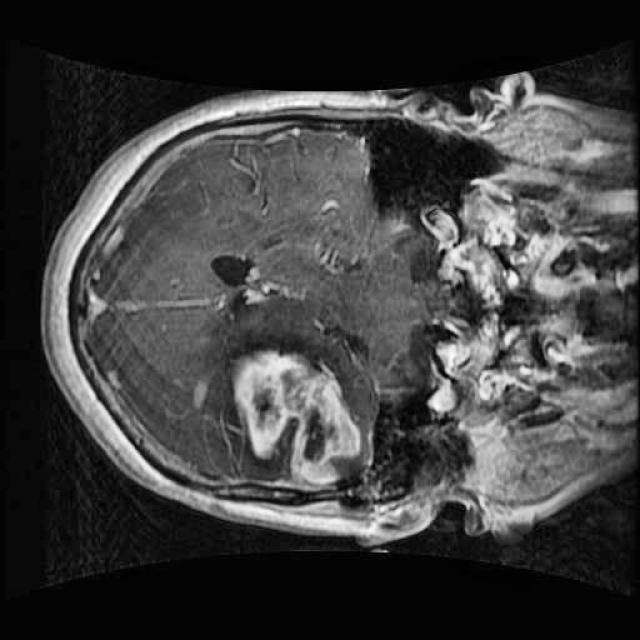Tumor: (215, 330, 381, 500)
